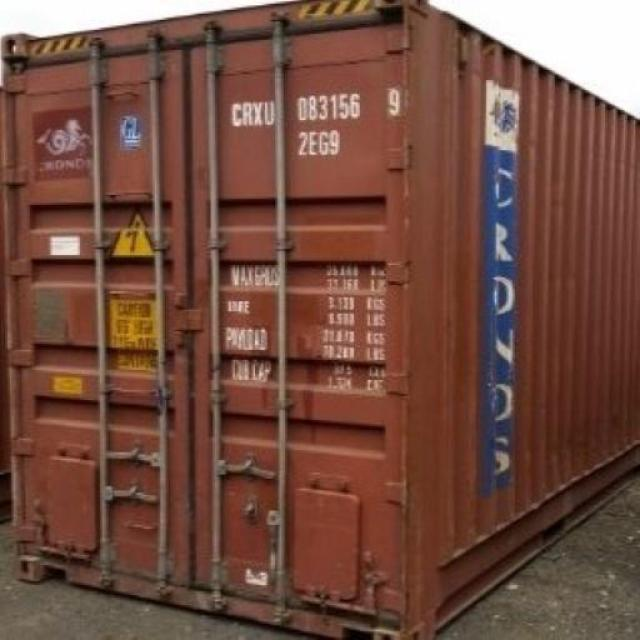ISO: (297, 130, 342, 158)
container_number: (236, 96, 396, 123)
